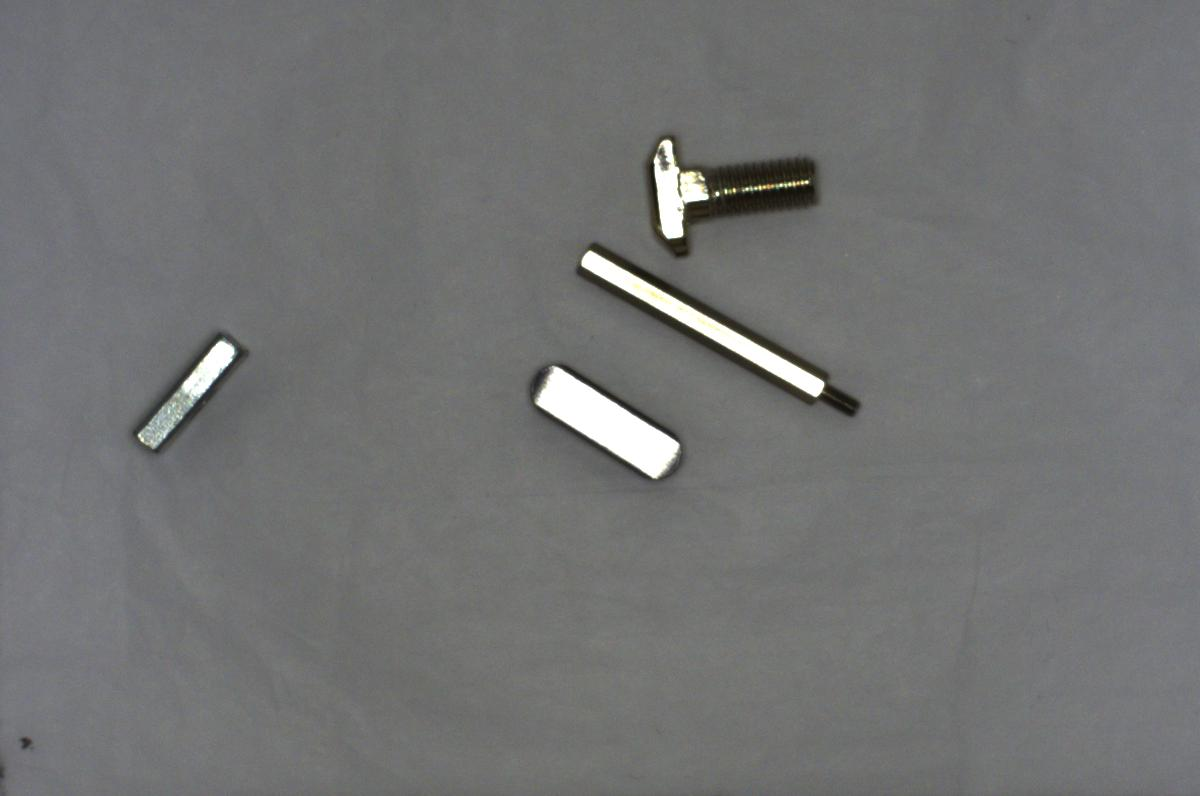Hexagonal steel column: (570, 240, 870, 419)
Keybar: (519, 365, 697, 483)
Rectangular nut: (127, 330, 244, 453)
T-shaped screw: (639, 139, 833, 255)
